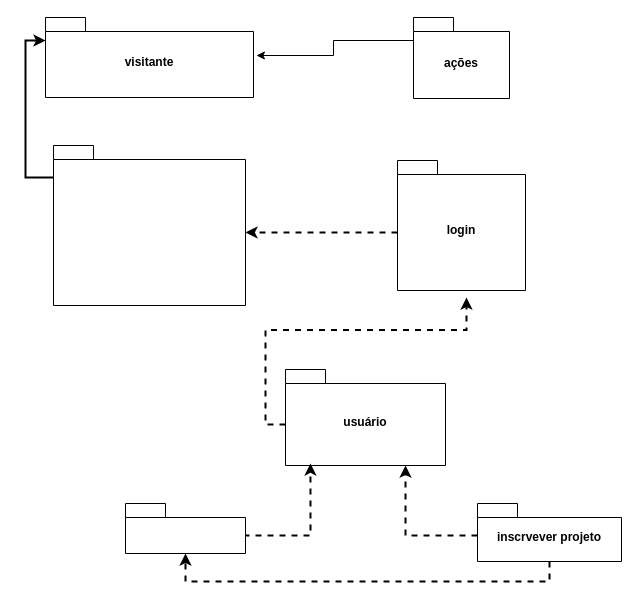
Image size: 639x608. Some labels were removed from this diagram. The centre of each missing label's shape, as x and y in pixels:
"cadastro" belongs at point (149, 225).
"dadosda conta" belongs at point (185, 528).
